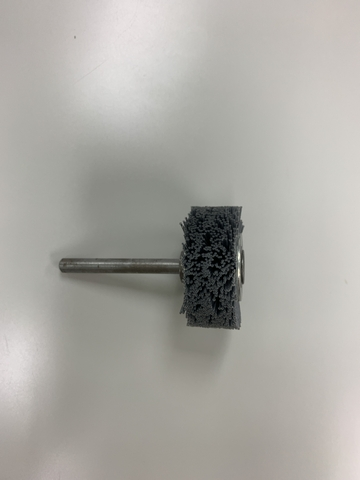Wheel Brush: (58, 202, 272, 340), (71, 198, 251, 347)
